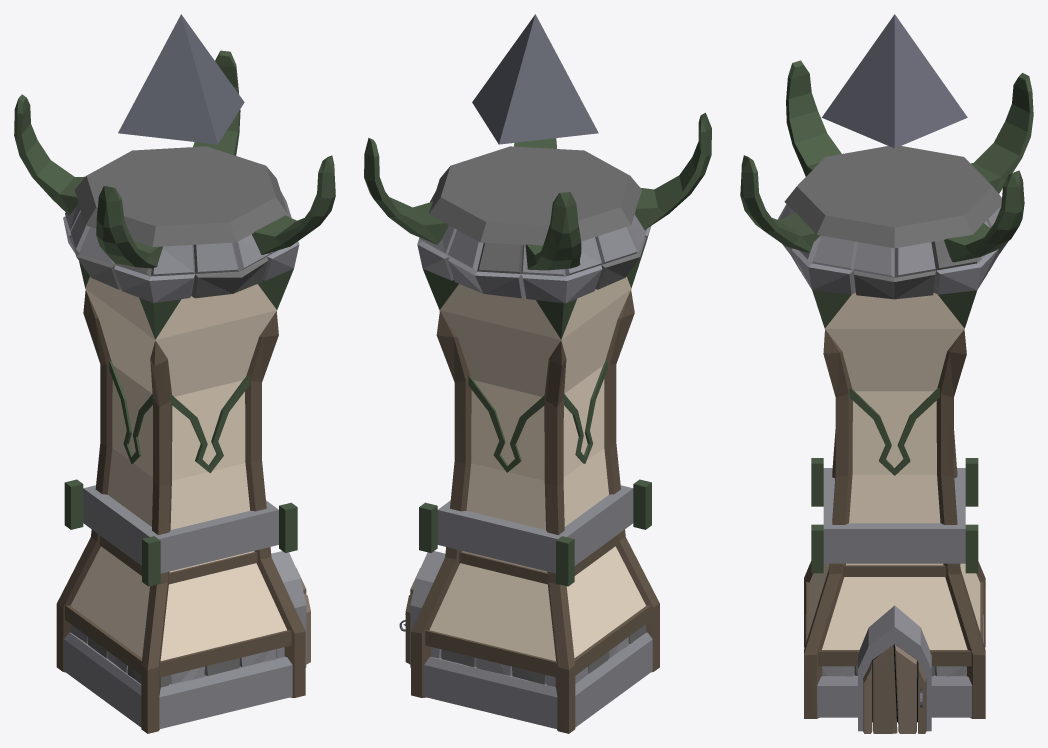
The model's file is _Poison_tower_LVL_2.fbx.
3 views of the same model, side by side, from view 1: azimuth 30°, elevation 25°; view 2: azimuth 150°, elevation 25°; view 3: azimuth 270°, elevation 25° (orthographic).
Visible parts, largest first — view 1: Poison_tower_LVL_2, Poison_tower_LVL_2.002; view 2: Poison_tower_LVL_2, Poison_tower_LVL_2.002; view 3: Poison_tower_LVL_2, Poison_tower_LVL_2.002.
Boxes of the visible parts, x1,y1,x2,y2 form: Poison_tower_LVL_2: (14,50,335,733); Poison_tower_LVL_2.002: (118,14,244,144); Poison_tower_LVL_2: (364,112,711,733); Poison_tower_LVL_2.002: (472,14,598,144); Poison_tower_LVL_2: (740,60,1033,733); Poison_tower_LVL_2.002: (822,14,967,148).
Size of the model in its own units: 597 by 1528 by 610.
